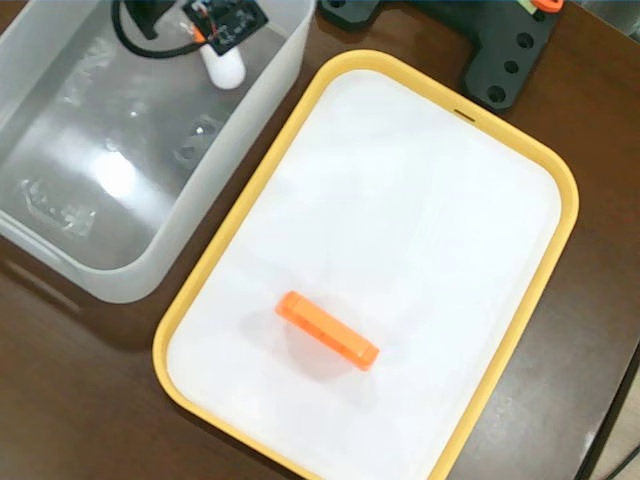pill: (196, 30, 241, 87)
